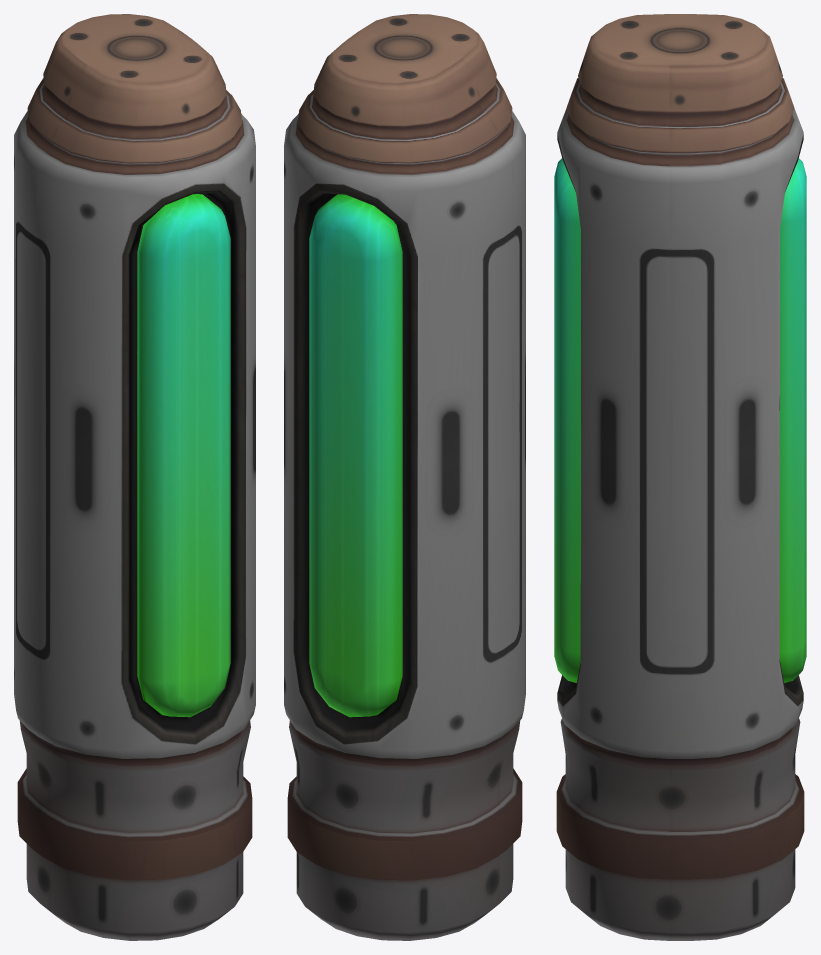
Rendered from Coolant.fbx.
3 views of the same model, side by side, from view 1: azimuth 30°, elevation 25°; view 2: azimuth 150°, elevation 25°; view 3: azimuth 270°, elevation 25° (orthographic).
Visible parts, largest first — view 1: Coolant; view 2: Coolant; view 3: Coolant.
Boxes of the visible parts, box(x1,y1,x2,y2) form: Coolant: box(14, 14, 255, 940); Coolant: box(284, 14, 525, 940); Coolant: box(554, 14, 806, 940).
Size of the model in its own units: 26.45 by 104 by 27.43.
